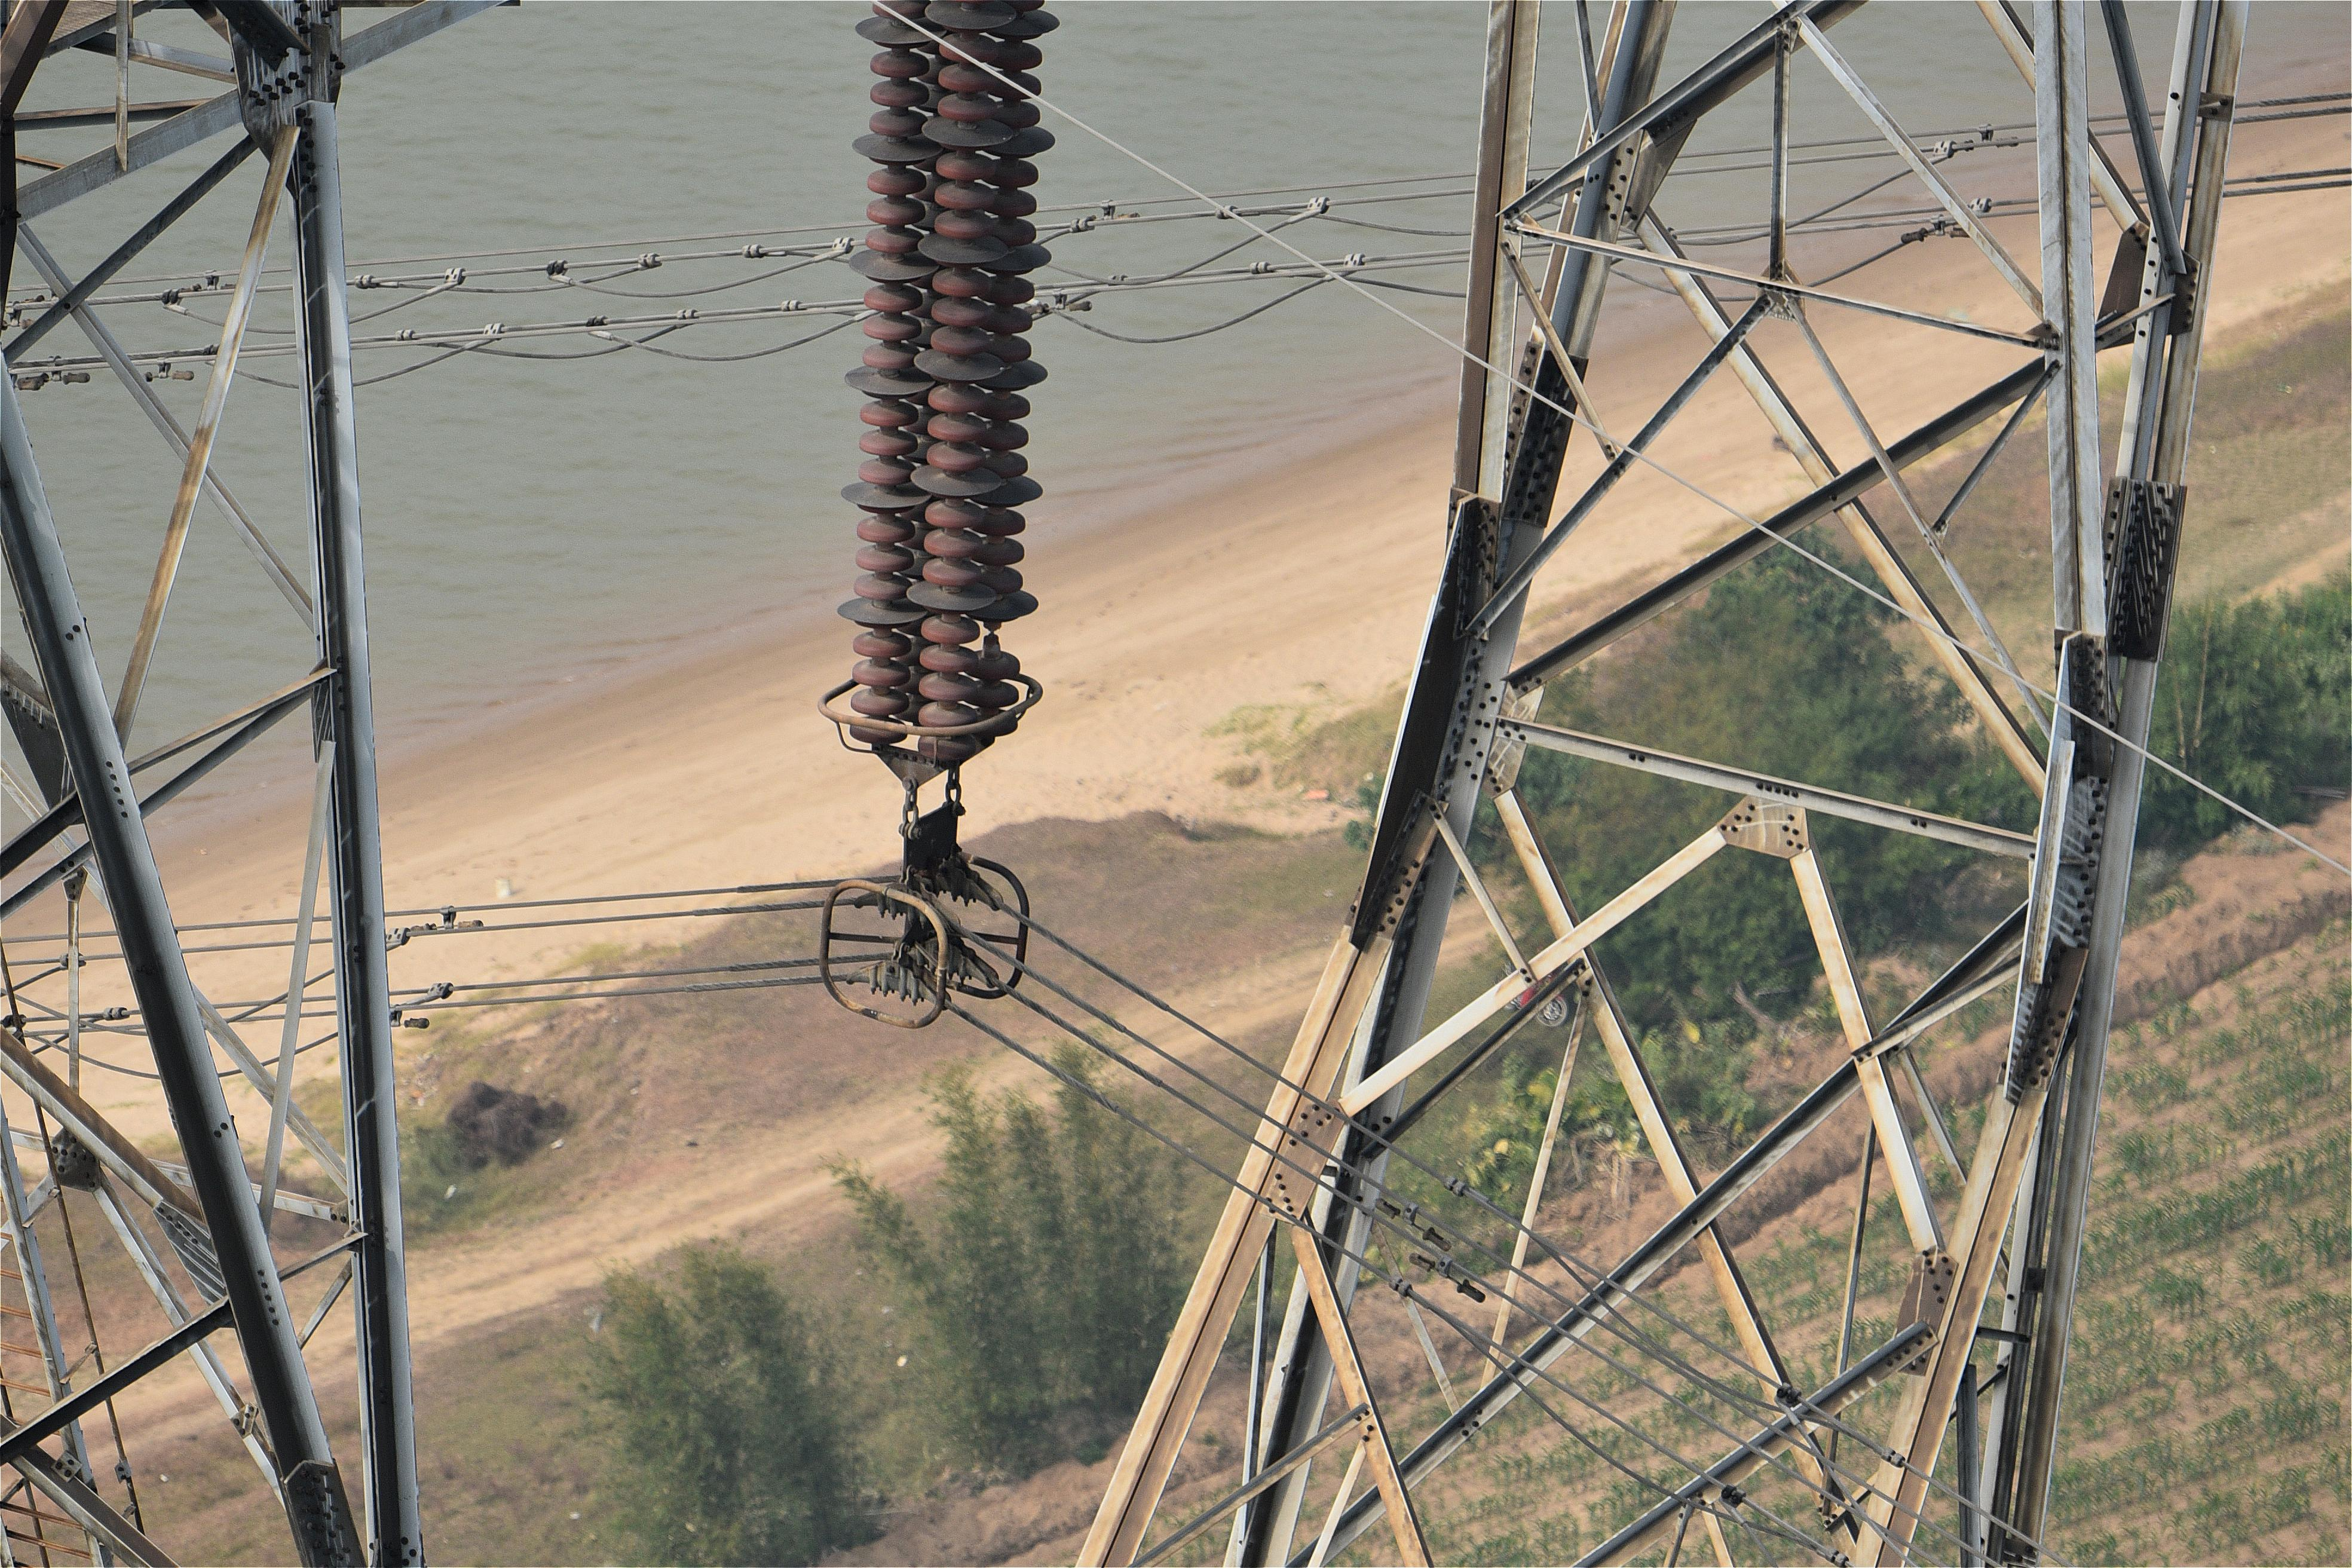insultor1: (798, 0, 1083, 819)
